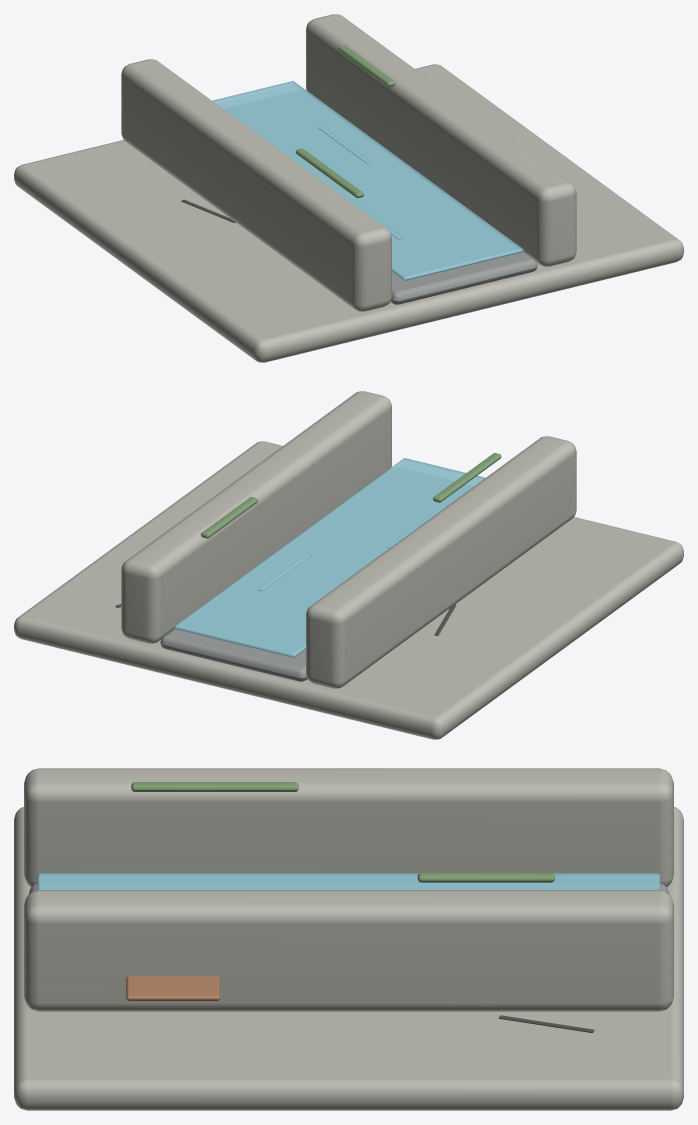
File: weathered_concrete_u_channel.glb
3 views of the same model, one above another, from view 1: azimuth 30°, elevation 25°; view 2: azimuth 150°, elevation 25°; view 3: azimuth 270°, elevation 25° (orthographic). The views are drawn at different scales.
Visible parts, largest first — view 1: concrete_tile_base, concrete_left_wall, concrete_right_wall, concrete_water, concrete_channel_floor, concrete_moss_left, concrete_moss_right; view 2: concrete_tile_base, concrete_left_wall, concrete_right_wall, concrete_water, concrete_channel_floor, concrete_moss_left, concrete_moss_right; view 3: concrete_right_wall, concrete_tile_base, concrete_left_wall, concrete_water, concrete_repair_plate, concrete_moss_left, concrete_moss_right.
Boxes of the visible parts, box(x1,y1,x2,y2) form: concrete_tile_base: box(14, 64, 683, 362); concrete_left_wall: box(121, 59, 391, 311); concrete_right_wall: box(306, 14, 576, 266); concrete_water: box(212, 81, 523, 280); concrete_channel_floor: box(390, 251, 537, 304); concrete_moss_left: box(295, 148, 363, 197); concrete_moss_right: box(338, 45, 395, 86); concrete_tile_base: box(14, 441, 683, 739); concrete_left_wall: box(306, 436, 576, 688); concrete_right_wall: box(121, 391, 391, 643); concrete_water: box(174, 458, 485, 657); concrete_channel_floor: box(160, 628, 307, 681); concrete_moss_left: box(433, 453, 501, 502); concrete_moss_right: box(201, 497, 257, 538); concrete_right_wall: box(24, 890, 673, 1011); concrete_tile_base: box(14, 807, 683, 1110); concrete_left_wall: box(24, 768, 673, 886); concrete_water: box(37, 873, 660, 890); concrete_repair_plate: box(126, 976, 219, 1000); concrete_moss_left: box(131, 782, 298, 791); concrete_moss_right: box(417, 872, 554, 882).
Size of the model in its own units: 4 by 0.9525 by 4.
